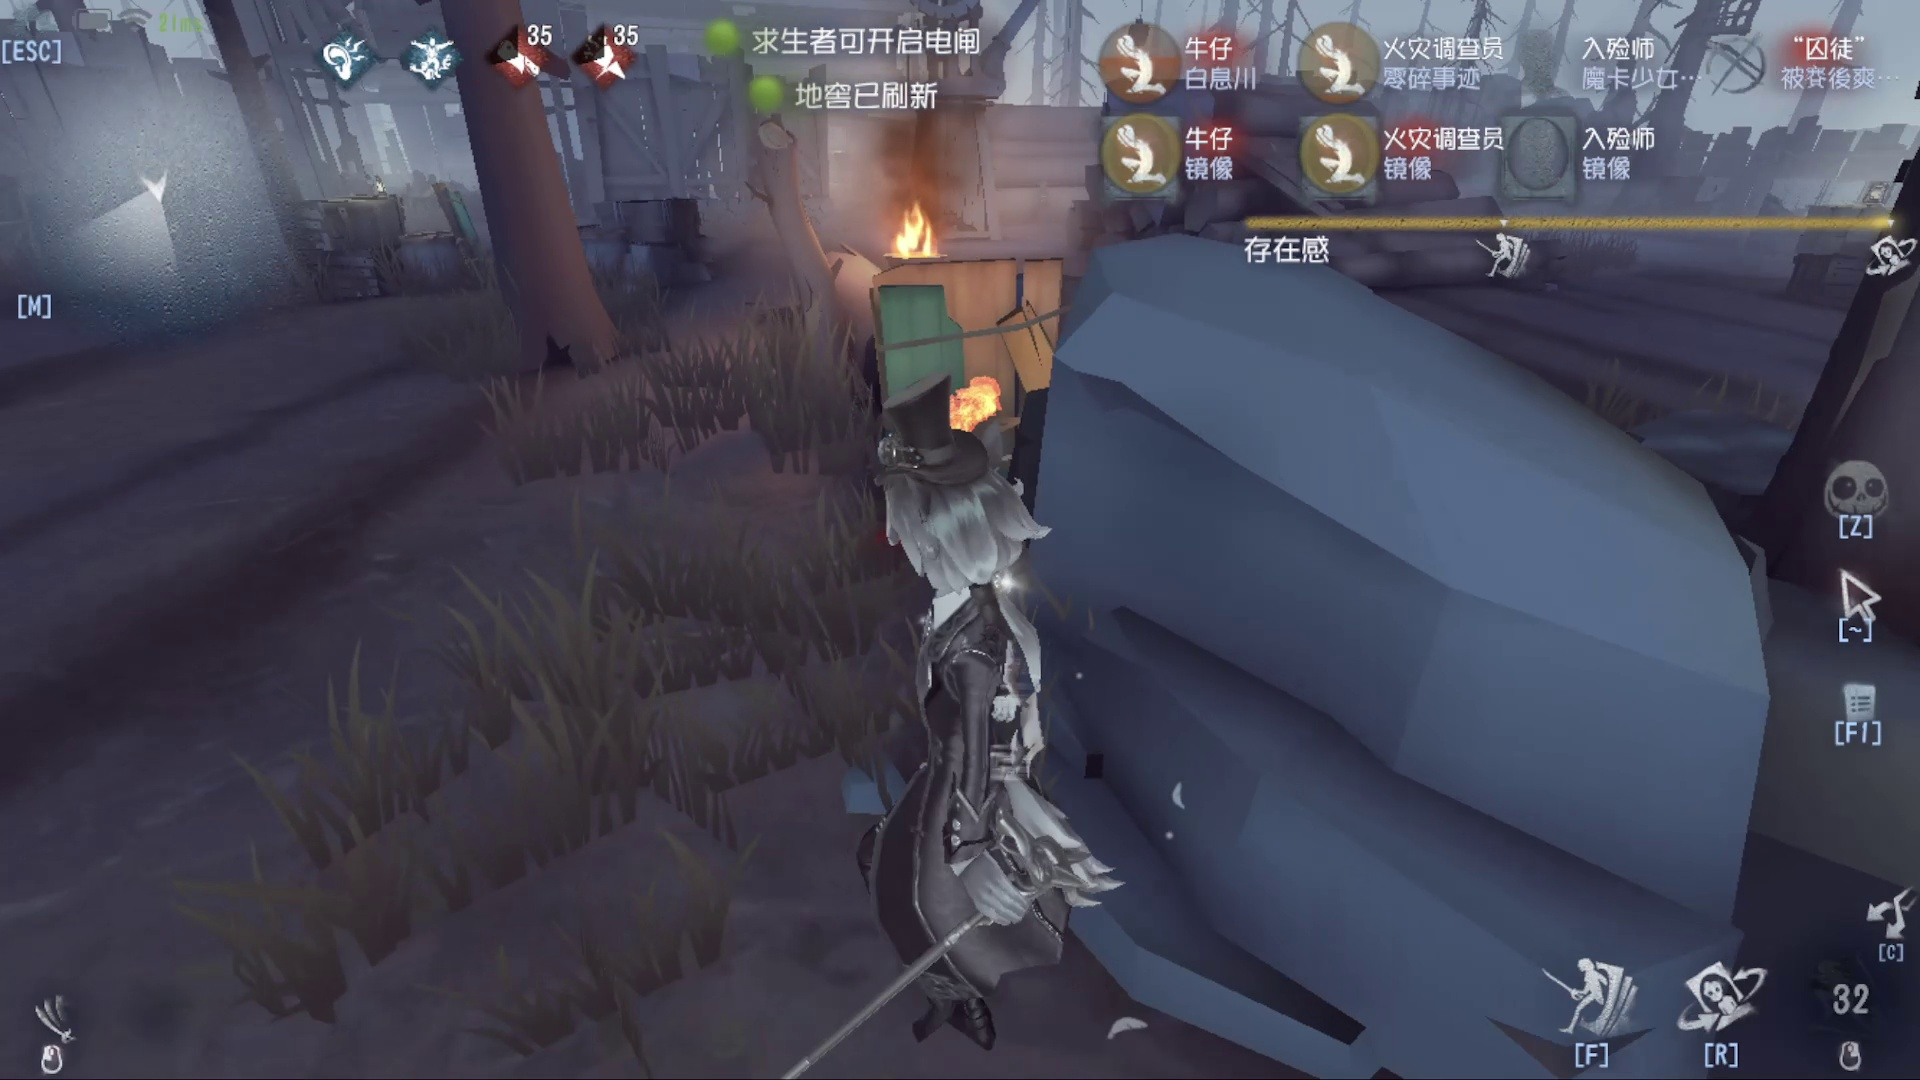木板: (851, 243, 1064, 483)
求生者: (940, 357, 1015, 444)
